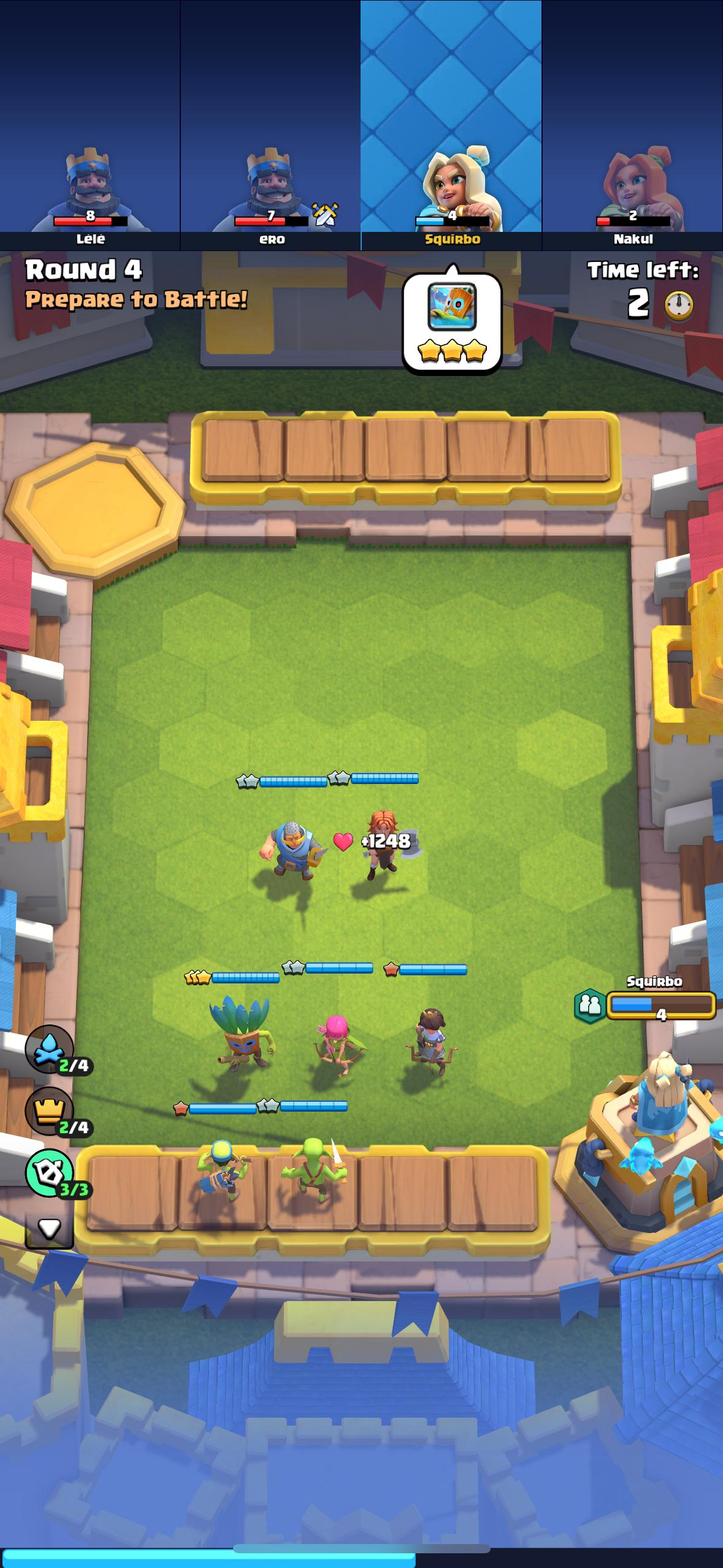archer: (307, 1007, 367, 1077)
dart: (200, 983, 279, 1075)
goblin: (280, 1127, 350, 1208)
knight: (257, 808, 324, 878)
princess: (402, 993, 459, 1075)
spear: (182, 1133, 262, 1213)
valkyrie: (353, 794, 414, 878)
